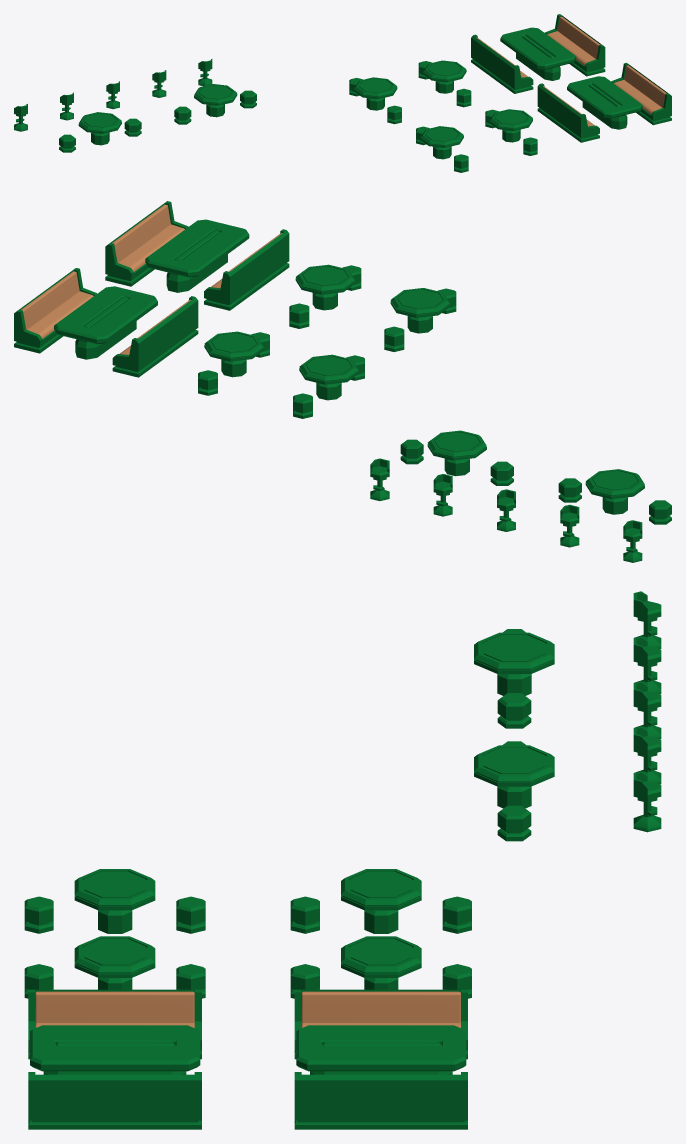
File: posSeat.fbx
The picture shows the model from 3 angles, top to bottom: view 1: azimuth 30°, elevation 25°; view 2: azimuth 150°, elevation 25°; view 3: azimuth 270°, elevation 25°; orthographic projection. The views are drawn at different scales.
Visible parts, largest first — view 1: Table_2x (×6), Seat_4x_Right_P1 (×4), Seat_4x (×2), Seat_4x_Right_P2 (×2), Seat_2x_Left (×6), Seat_2x_Right (×2), pCylinder47, Seat_1x, pCylinder50, pCylinder48, pCylinder49; view 2: Table_2x (×6), Seat_4x_Right_P1 (×4), Seat_4x (×2), Seat_4x_Right_P2 (×2), Seat_1x, pCylinder49, pCylinder47, pCylinder50, pCylinder48, Seat_2x_Left; view 3: Seat_4x_Right_P1 (×4), Table_2x (×6), Seat_4x (×2), Seat_4x_Right_P2 (×2), Seat_2x_Left (×4), Seat_2x_Right (×2), Seat_1x, pCylinder48, pCylinder47, pCylinder49, pCylinder50.
Boxes of the visible parts, x1=… form: Table_2x (×6): x1=78, y1=60, x2=532, y2=159; Seat_4x_Right_P1 (×4): x1=471, y1=14, x2=671, y2=142; Seat_4x (×2): x1=500, y1=27, x2=642, y2=129; Seat_4x_Right_P2 (×2): x1=547, y1=16, x2=666, y2=114; Seat_2x_Left (×6): x1=124, y1=88, x2=537, y2=172; Seat_2x_Right (×2): x1=59, y1=106, x2=191, y2=152; pCylinder47: x1=152, y1=70, x2=166, y2=97; Seat_1x: x1=198, y1=59, x2=212, y2=86; pCylinder50: x1=14, y1=104, x2=27, y2=131; pCylinder48: x1=106, y1=81, x2=119, y2=109; pCylinder49: x1=60, y1=92, x2=73, y2=120; Table_2x (×6): x1=204, y1=264, x2=644, y2=514; Seat_4x_Right_P1 (×4): x1=14, y1=201, x2=289, y2=377; Seat_4x (×2): x1=54, y1=219, x2=249, y2=359; Seat_4x_Right_P2 (×2): x1=21, y1=204, x2=184, y2=338; Seat_1x: x1=370, y1=458, x2=389, y2=500; pCylinder49: x1=560, y1=504, x2=579, y2=547; pCylinder47: x1=433, y1=474, x2=452, y2=516; pCylinder50: x1=623, y1=520, x2=642, y2=562; pCylinder48: x1=497, y1=489, x2=515, y2=531; Seat_2x_Left: x1=400, y1=439, x2=423, y2=464; Seat_4x_Right_P1 (×4): x1=28, y1=989, x2=467, y2=1129; Table_2x (×6): x1=74, y1=632, x2=554, y2=989; Seat_4x (×2): x1=30, y1=1025, x2=466, y2=1074; Seat_4x_Right_P2 (×2): x1=35, y1=991, x2=460, y2=1027; Seat_2x_Left (×4): x1=24, y1=693, x2=531, y2=933; Seat_2x_Right (×2): x1=176, y1=896, x2=471, y2=933; Seat_1x: x1=633, y1=771, x2=661, y2=832; pCylinder48: x1=633, y1=681, x2=661, y2=738; pCylinder47: x1=633, y1=726, x2=661, y2=783; pCylinder49: x1=633, y1=636, x2=661, y2=693; pCylinder50: x1=633, y1=591, x2=661, y2=648.
Bounding box in the file's own units: 364 × 18.4 × 199.
